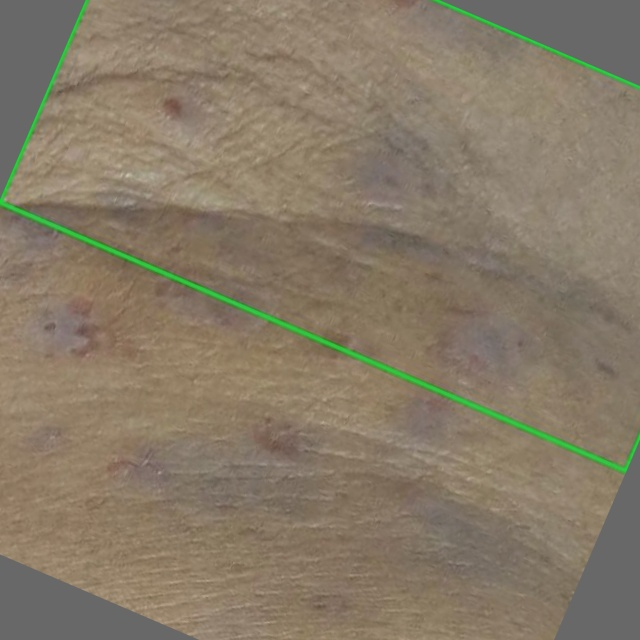Contact Dermatitis: (0, 0, 639, 471)
